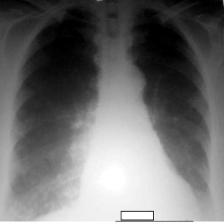tuberculosis: (6, 1, 218, 223)
